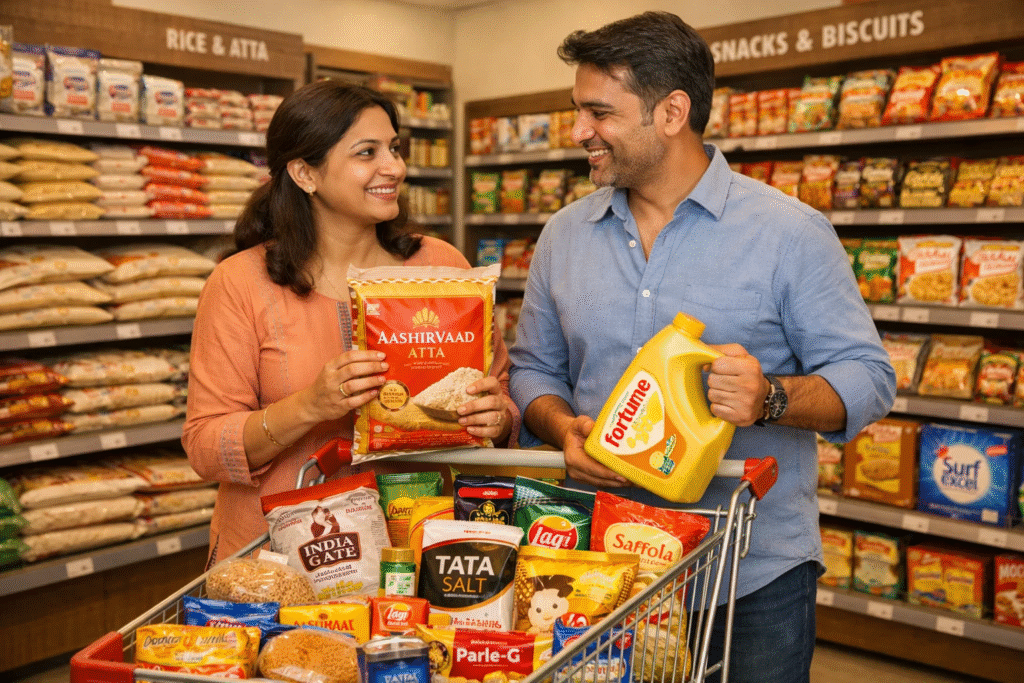saffola: (414, 516, 522, 632)
